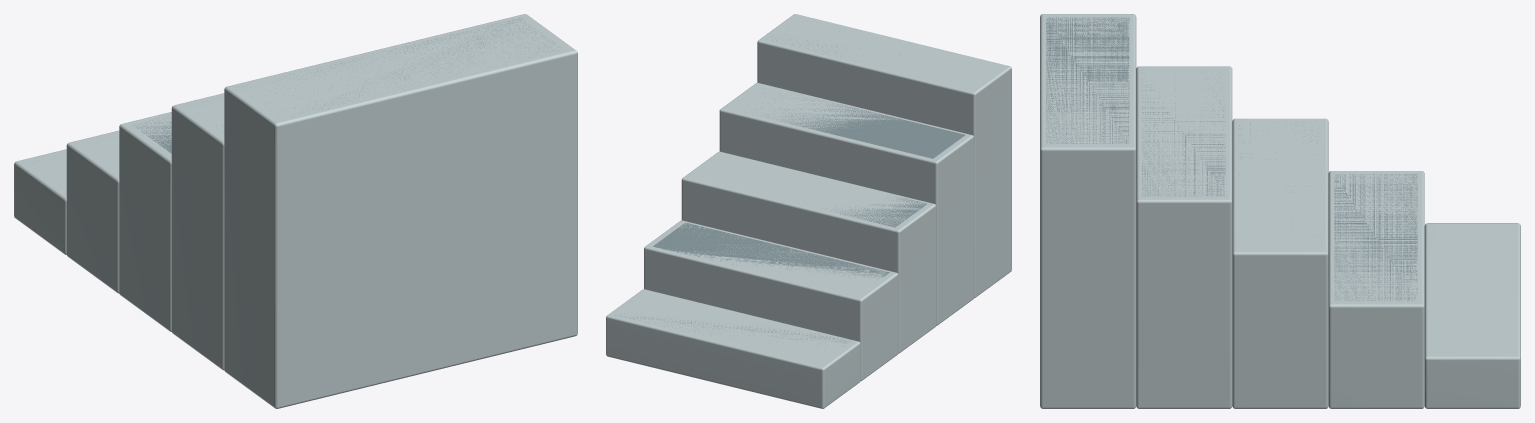
File: stairs.glb
The picture shows the model from 3 angles, left to right: view 1: azimuth 30°, elevation 25°; view 2: azimuth 150°, elevation 25°; view 3: azimuth 270°, elevation 25°; orthographic projection. The views are drawn at different scales.
Visible parts, largest first — view 1: riser_05, riser_04, riser_03, riser_02, riser_01, tread_05, tread_03; view 2: riser_05, riser_03, riser_04, riser_01, riser_02, tread_02, tread_04, tread_03; view 3: riser_05, riser_04, riser_03, riser_02, riser_01, tread_05, tread_02, tread_04.
Boxes of the visible parts, x1=… form: riser_05: x1=224, y1=14, x2=577, y2=408; riser_04: x1=171, y1=93, x2=224, y2=370; riser_03: x1=119, y1=112, x2=171, y2=331; riser_02: x1=66, y1=130, x2=119, y2=293; riser_01: x1=14, y1=149, x2=66, y2=254; tread_05: x1=243, y1=18, x2=561, y2=117; tread_03: x1=134, y1=118, x2=171, y2=153; riser_05: x1=757, y1=14, x2=1011, y2=298; riser_03: x1=681, y1=151, x2=936, y2=353; riser_04: x1=719, y1=83, x2=973, y2=325; riser_01: x1=606, y1=289, x2=860, y2=408; riser_02: x1=644, y1=220, x2=898, y2=381; tread_02: x1=653, y1=222, x2=889, y2=279; tread_04: x1=763, y1=89, x2=965, y2=158; tread_03: x1=830, y1=197, x2=926, y2=227; riser_05: x1=1040, y1=14, x2=1136, y2=408; riser_04: x1=1136, y1=66, x2=1232, y2=408; riser_03: x1=1232, y1=118, x2=1328, y2=408; riser_02: x1=1328, y1=171, x2=1424, y2=408; riser_01: x1=1424, y1=223, x2=1520, y2=408; tread_05: x1=1046, y1=17, x2=1129, y2=143; tread_02: x1=1334, y1=174, x2=1417, y2=301; tread_04: x1=1142, y1=72, x2=1225, y2=196.
Bounding box in the file's own units: 1 × 0.9 × 1.5.
